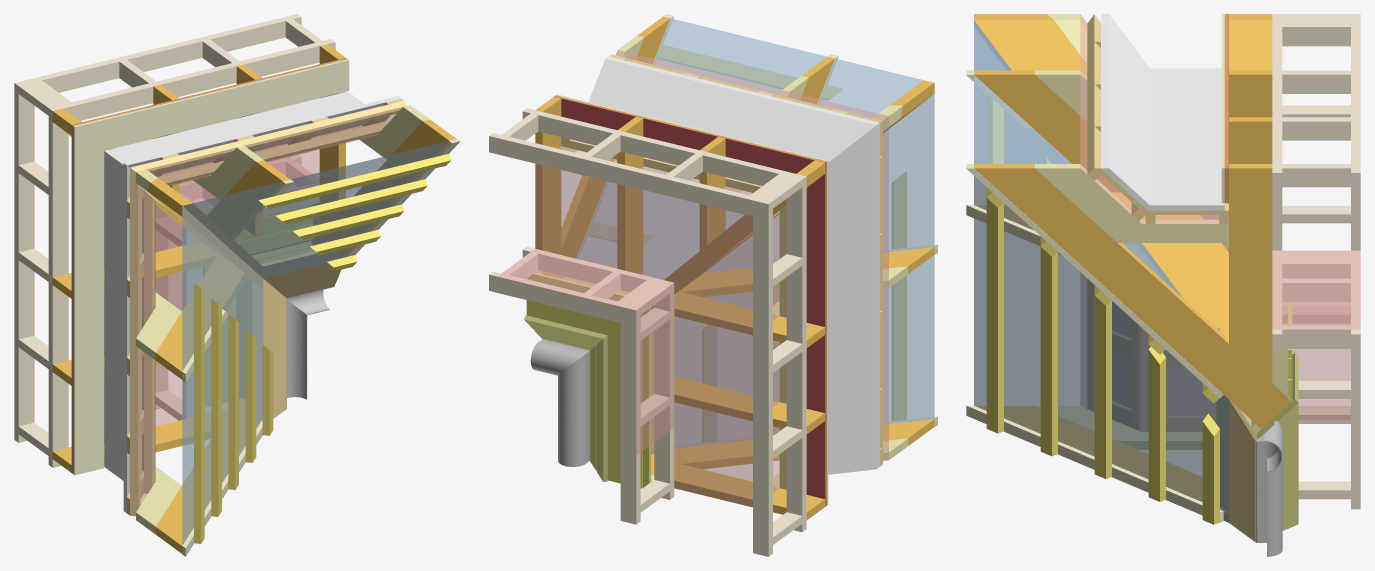
File: svendeprove.glb
The picture shows the model from 3 angles, left to right: view 1: azimuth 30°, elevation 25°; view 2: azimuth 150°, elevation 25°; view 3: azimuth 270°, elevation 25°; orthographic projection. The views are drawn at different scales.
Visible parts, largest first — view 1: 1 Optegning, 5 Ramme, 4 Mellemtyk kortstregslinje, 035, A99--S-; view 2: 1 Optegning, A99--S-, 035, 5 Ramme, 4 Mellemtyk kortstregslinje; view 3: 1 Optegning, 035, 4 Mellemtyk kortstregslinje, 5 Ramme, A99--S-.
Part boxes in pixels (x1=…): 1 Optegning: x1=52, y1=44, x2=456, y2=553; 5 Ramme: x1=14, y1=14, x2=335, y2=467; 4 Mellemtyk kortstregslinje: x1=182, y1=139, x2=460, y2=556; 035: x1=182, y1=141, x2=448, y2=544; A99--S-: x1=104, y1=97, x2=402, y2=511; 1 Optegning: x1=535, y1=16, x2=934, y2=524; A99--S-: x1=497, y1=50, x2=888, y2=507; 035: x1=577, y1=18, x2=934, y2=447; 5 Ramme: x1=489, y1=108, x2=806, y2=556; 4 Mellemtyk kortstregslinje: x1=524, y1=14, x2=937, y2=488; 1 Optegning: x1=974, y1=14, x2=1360, y2=522; 035: x1=974, y1=20, x2=1228, y2=522; 4 Mellemtyk kortstregslinje: x1=966, y1=70, x2=1298, y2=556; 5 Ramme: x1=1272, y1=14, x2=1360, y2=499; A99--S-: x1=1080, y1=14, x2=1360, y2=431.
Size of the model in its own units: 1700 by 2050 by 1783.
